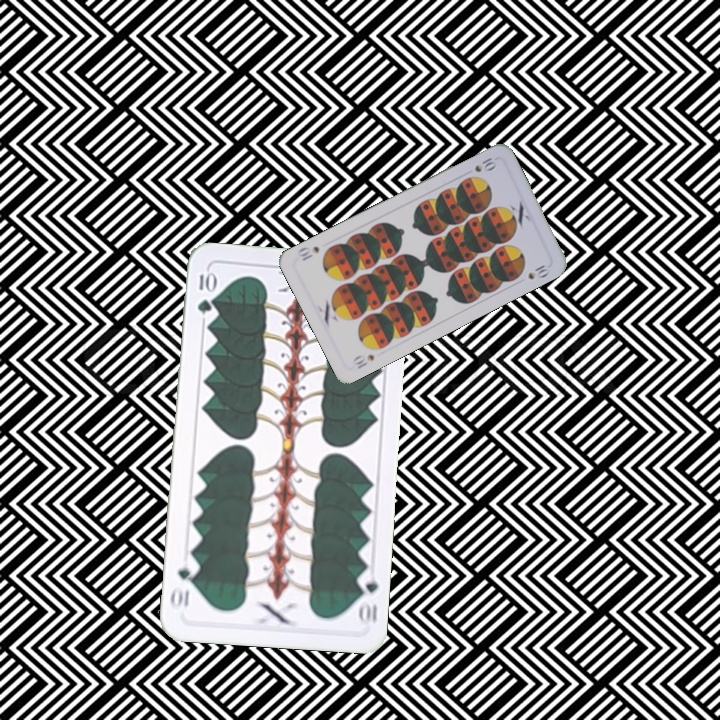G10: (353, 568, 381, 628), (193, 267, 216, 316)
S10: (470, 153, 499, 175), (349, 350, 377, 371)
